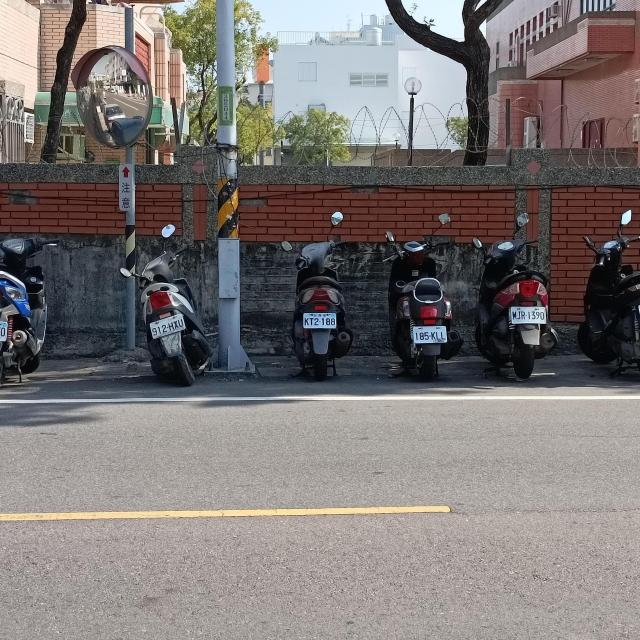W: (150, 314, 186, 338), (509, 305, 547, 324), (412, 326, 447, 343), (302, 313, 336, 328), (0, 319, 8, 342)
